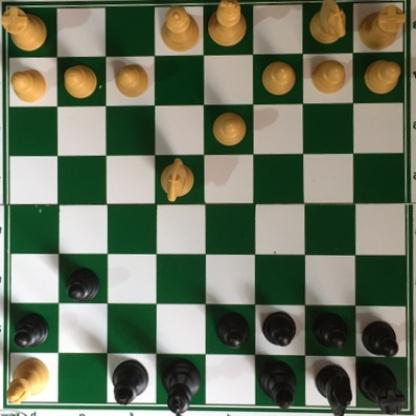black-bishop: (256, 361, 296, 413), (111, 362, 150, 413)
black-king: (159, 359, 198, 415)
black-knight: (315, 363, 353, 415)
black-pawn: (10, 311, 50, 350), (310, 311, 347, 350), (361, 322, 398, 359), (213, 312, 248, 349), (261, 311, 296, 348), (65, 268, 101, 301)
black-rook: (353, 361, 406, 415)
white-bishop: (4, 357, 52, 406)
white-king: (205, 0, 248, 50)
white-knight: (158, 155, 196, 205), (308, 0, 348, 46)
white-pawn: (111, 63, 152, 100), (360, 57, 399, 95), (210, 111, 250, 146), (310, 58, 346, 96), (9, 71, 47, 106), (62, 63, 97, 101), (260, 61, 296, 96)
white-queen: (157, 6, 199, 54)
white-rook: (353, 6, 406, 54), (1, 6, 49, 53)
